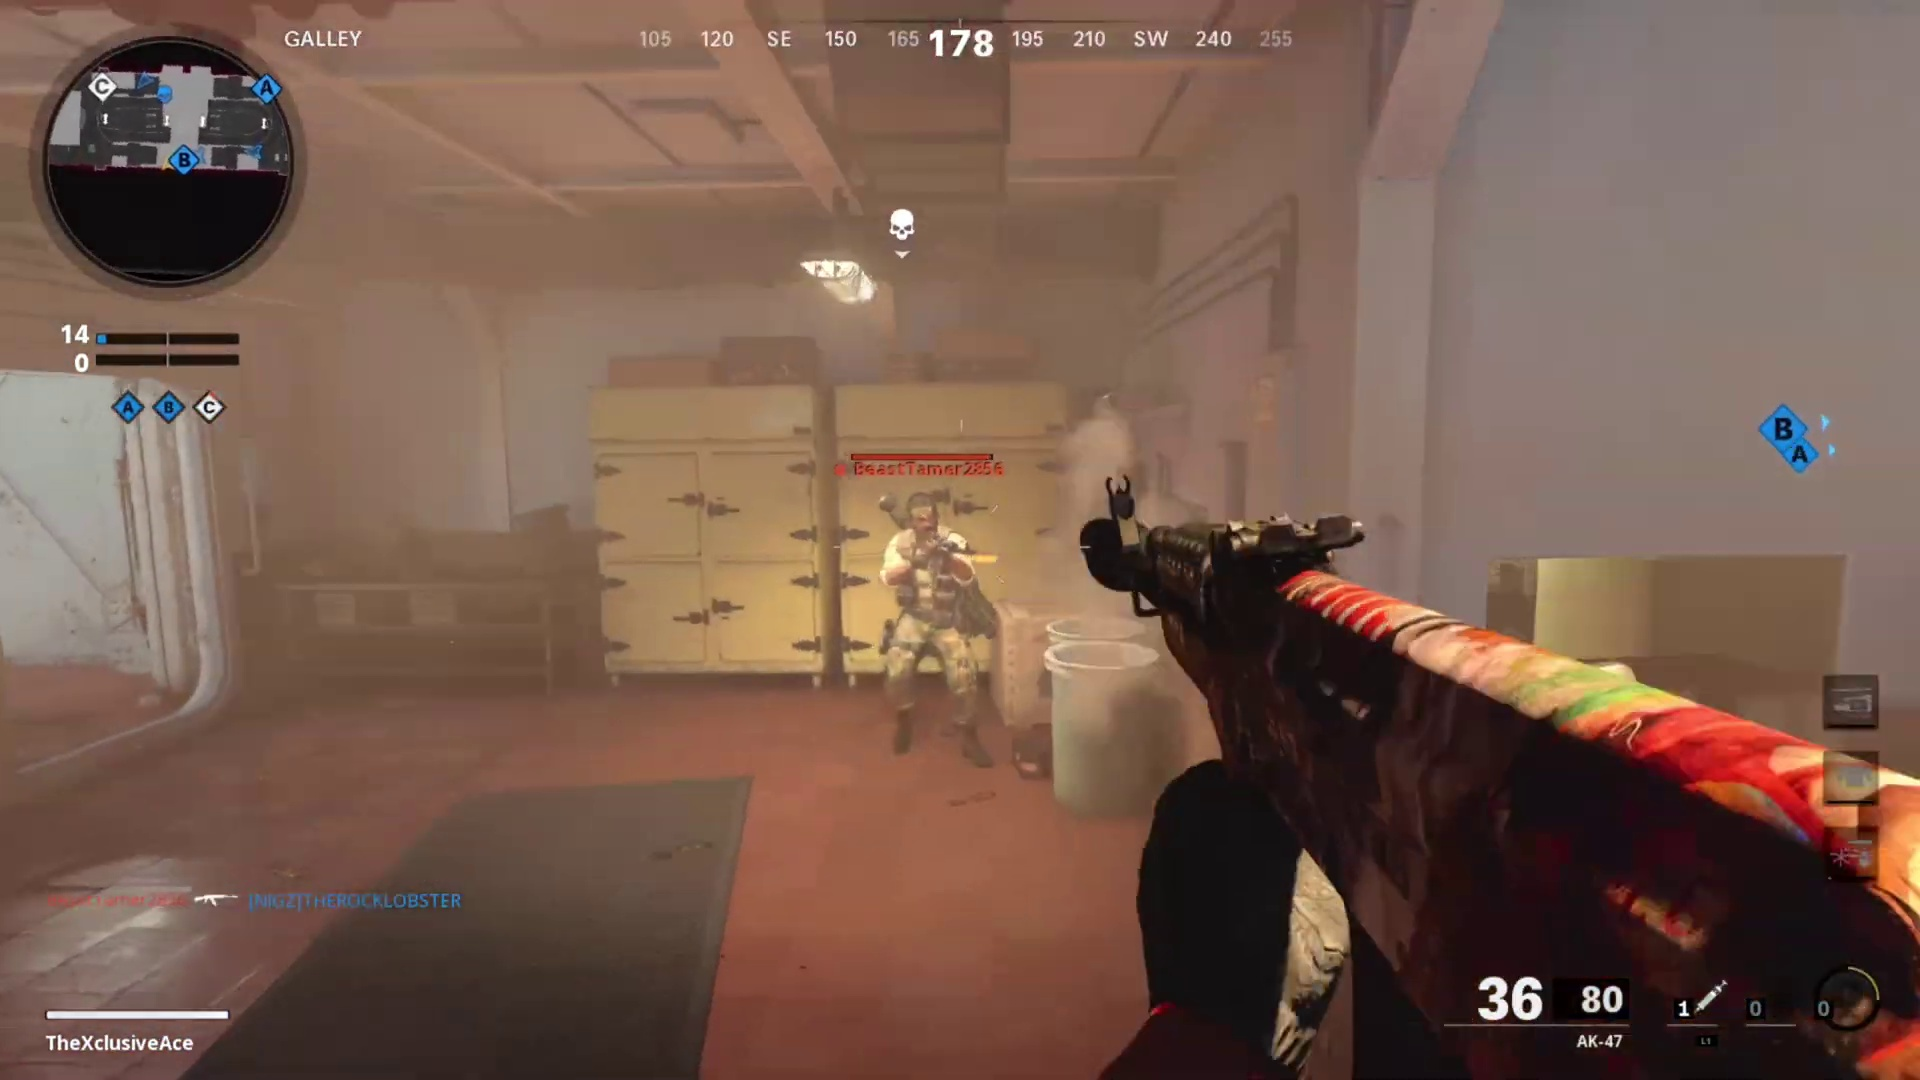head: (904, 488, 943, 550)
person: (879, 488, 1001, 775)
